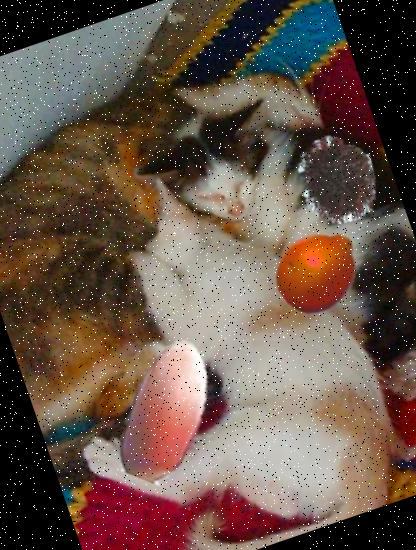Hazelnut: (74, 315, 262, 503)
Rambutan: (280, 122, 392, 235)
Tangelo: (263, 214, 376, 328)
